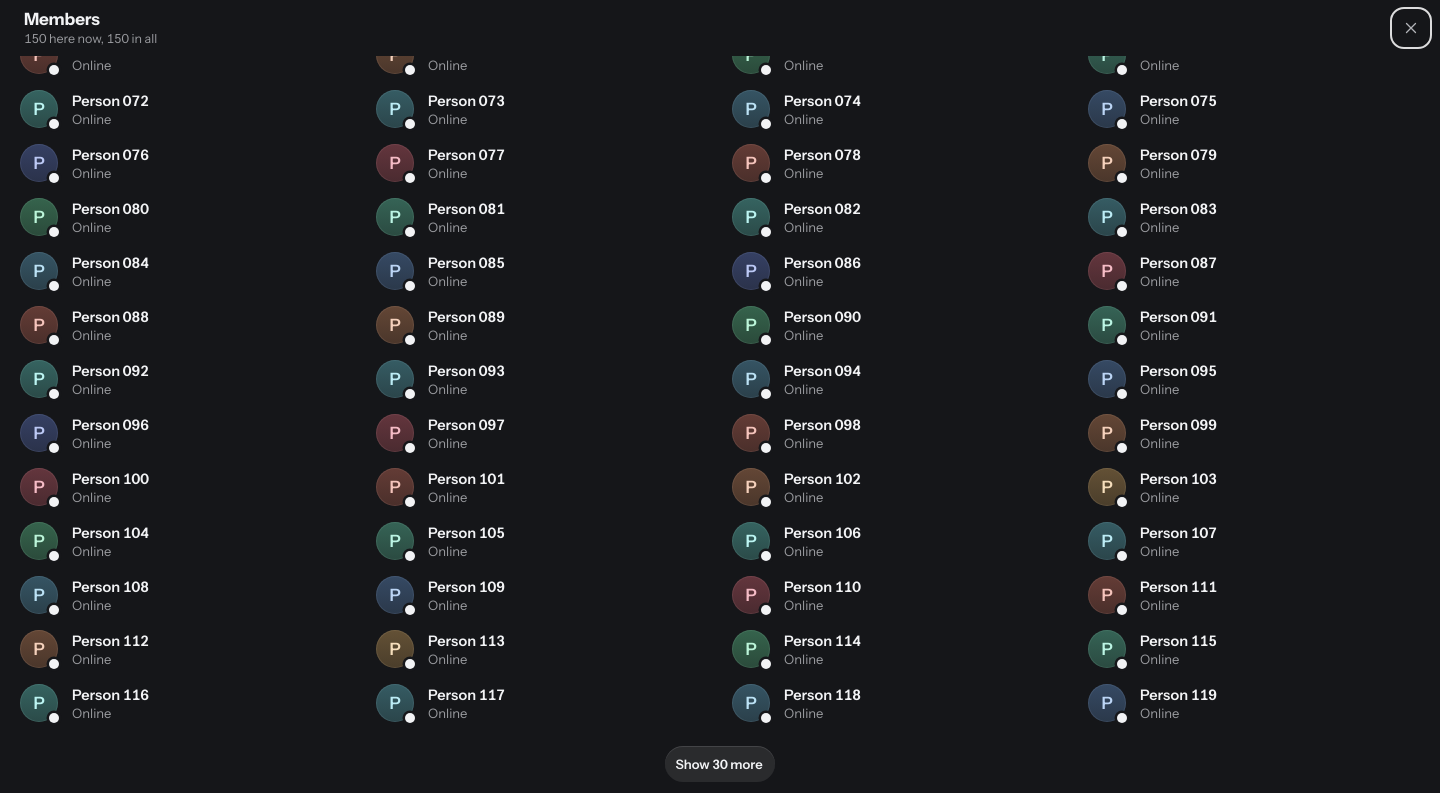
Scenario: a server's members › shows a long roster a page at a time
(page scrolled)
Click the button "Show 30 more" at [720, 764], box [665,746,775,782]
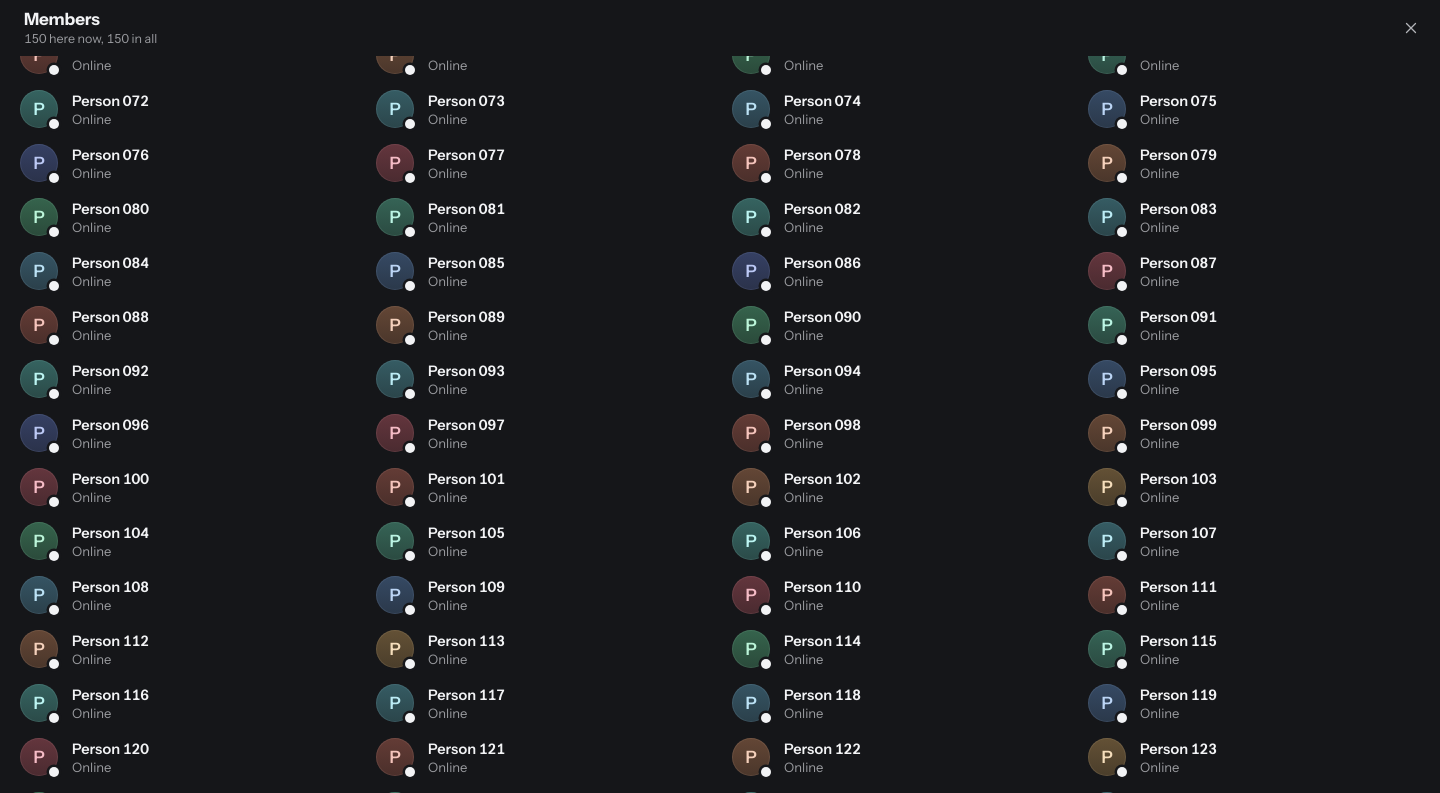
expect the button "Show 30 more" is gone: met
